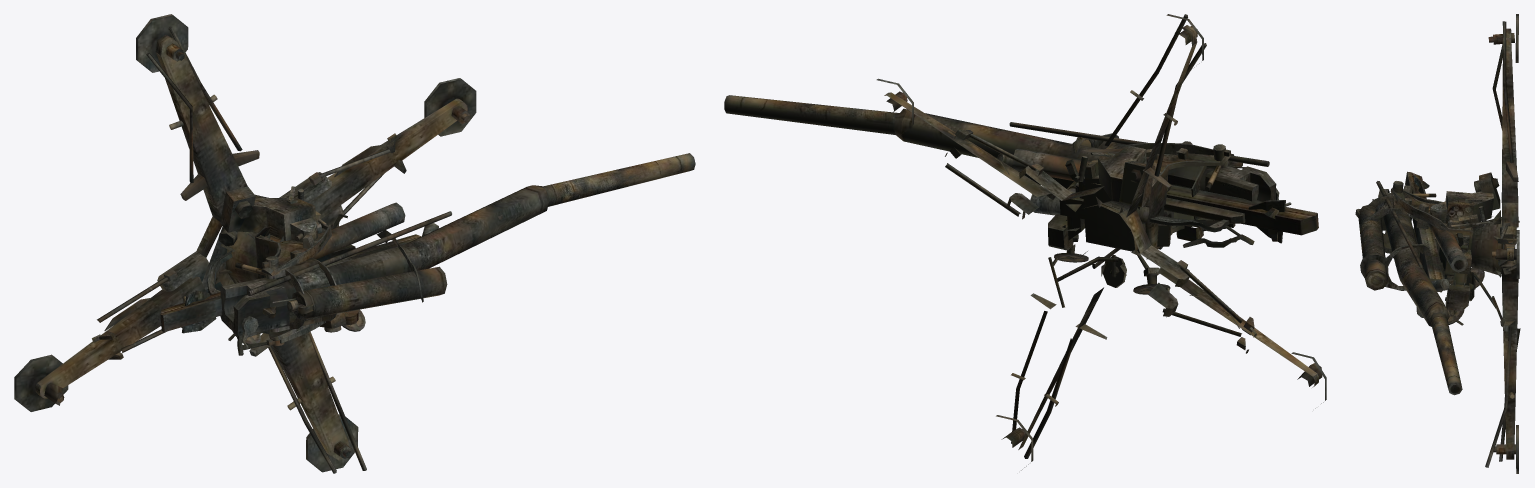
File: german_artillery_flak88_destroy.glb
3 renders of one model, left to right at view 1: azimuth 30°, elevation 25°; view 2: azimuth 150°, elevation 25°; view 3: azimuth 270°, elevation 25°, orthographic. The views are drawn at different scales.
Bounding box in the file's own units: 332 × 246 × 95.23.
1 material, 1 textured.
